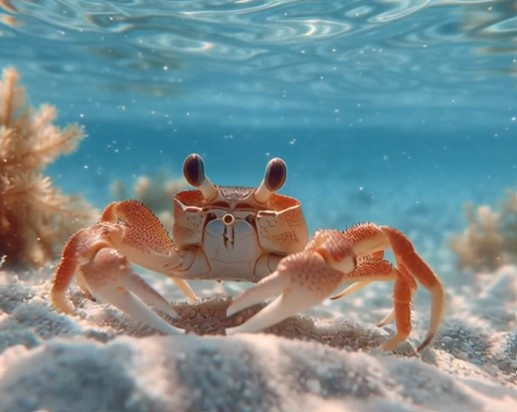crab: (211, 222, 447, 360)
